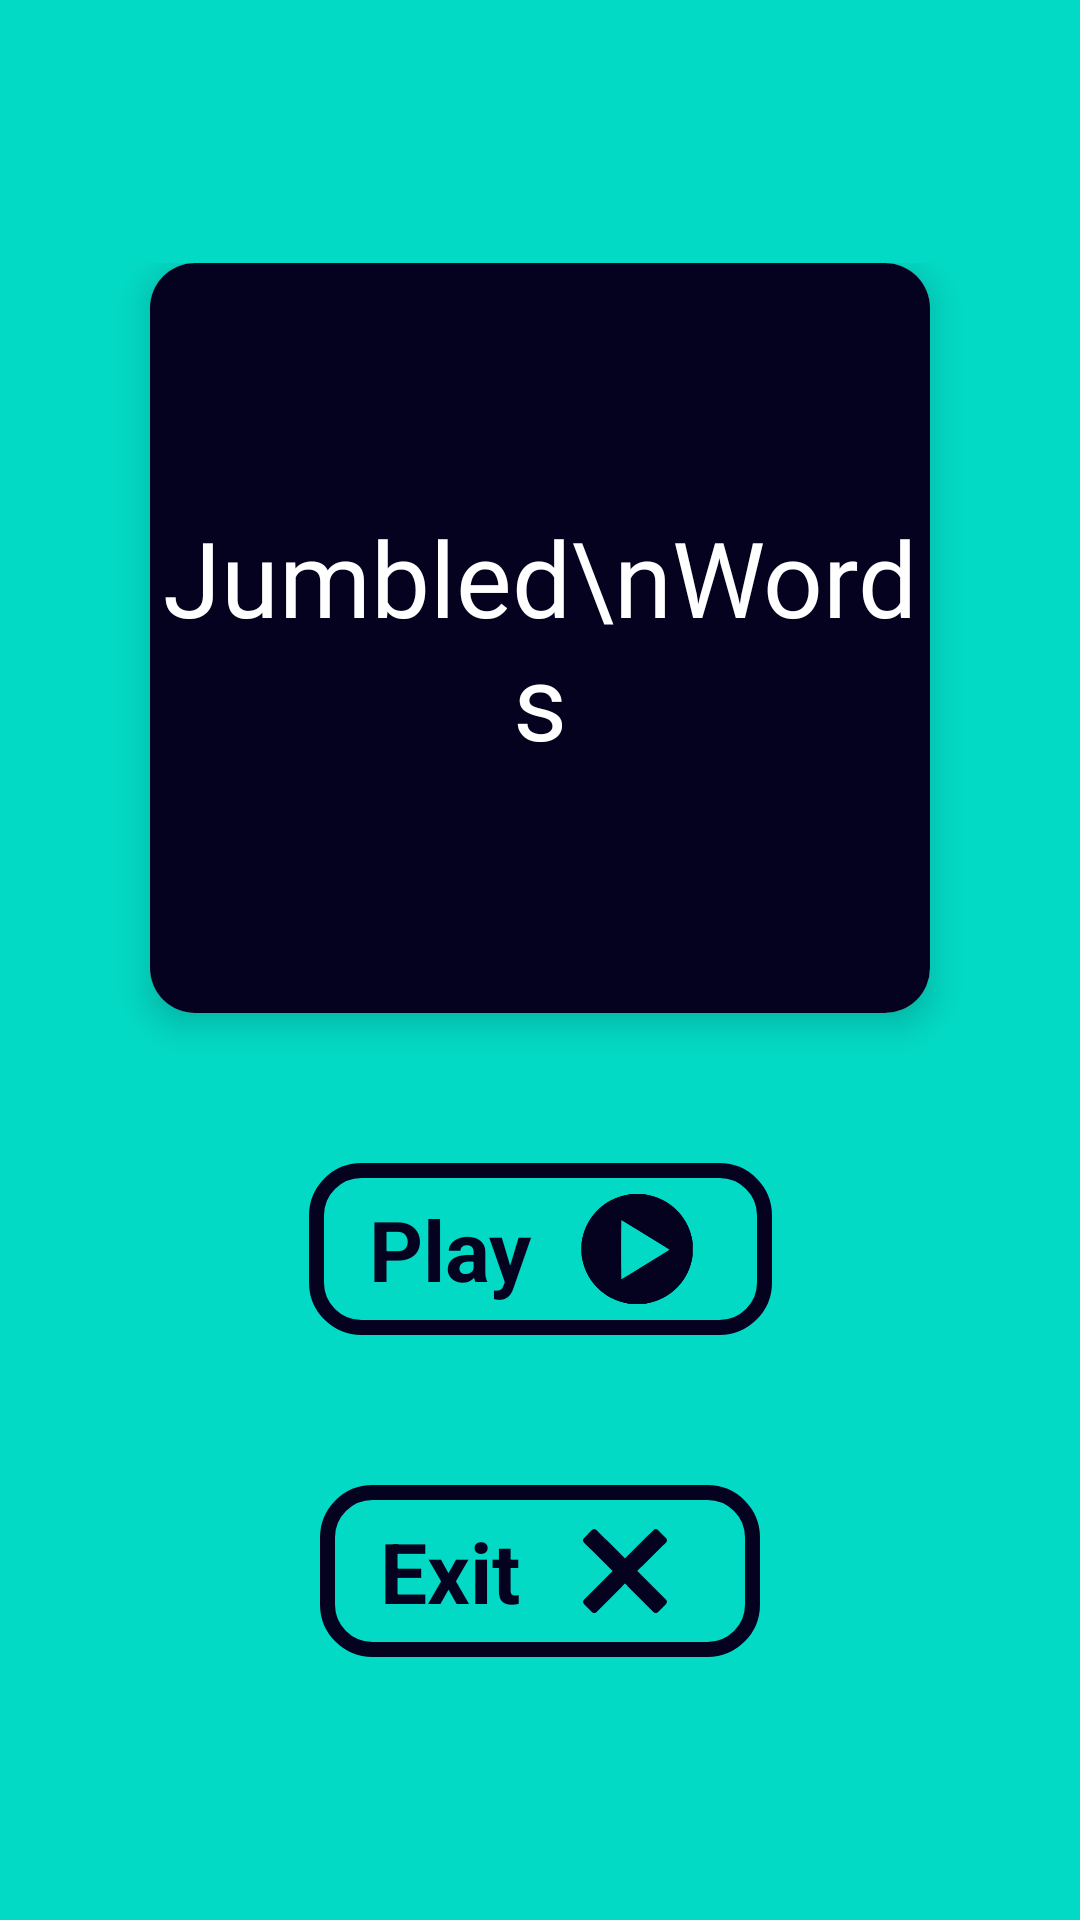

Where icons sit on this 1080px×1920px app screen, as (x1, y1, x2, y2):
close: (583, 1529, 667, 1613)
